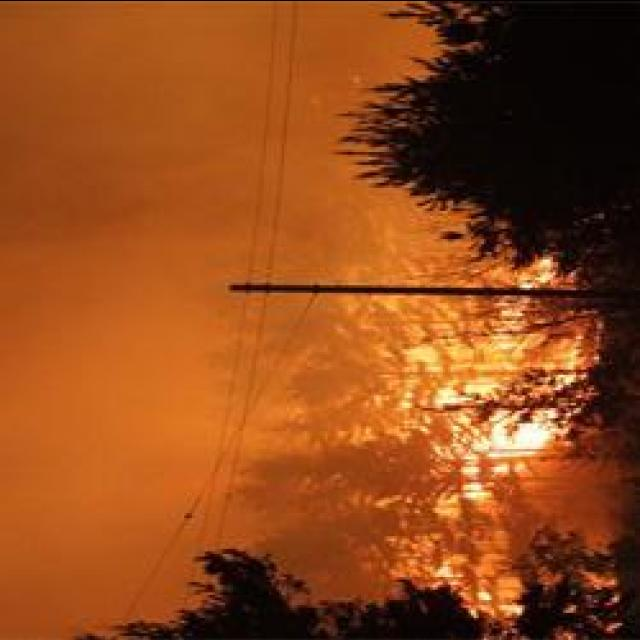fire: (458, 407, 560, 458), (473, 250, 569, 288)
smoke: (518, 462, 634, 542)
